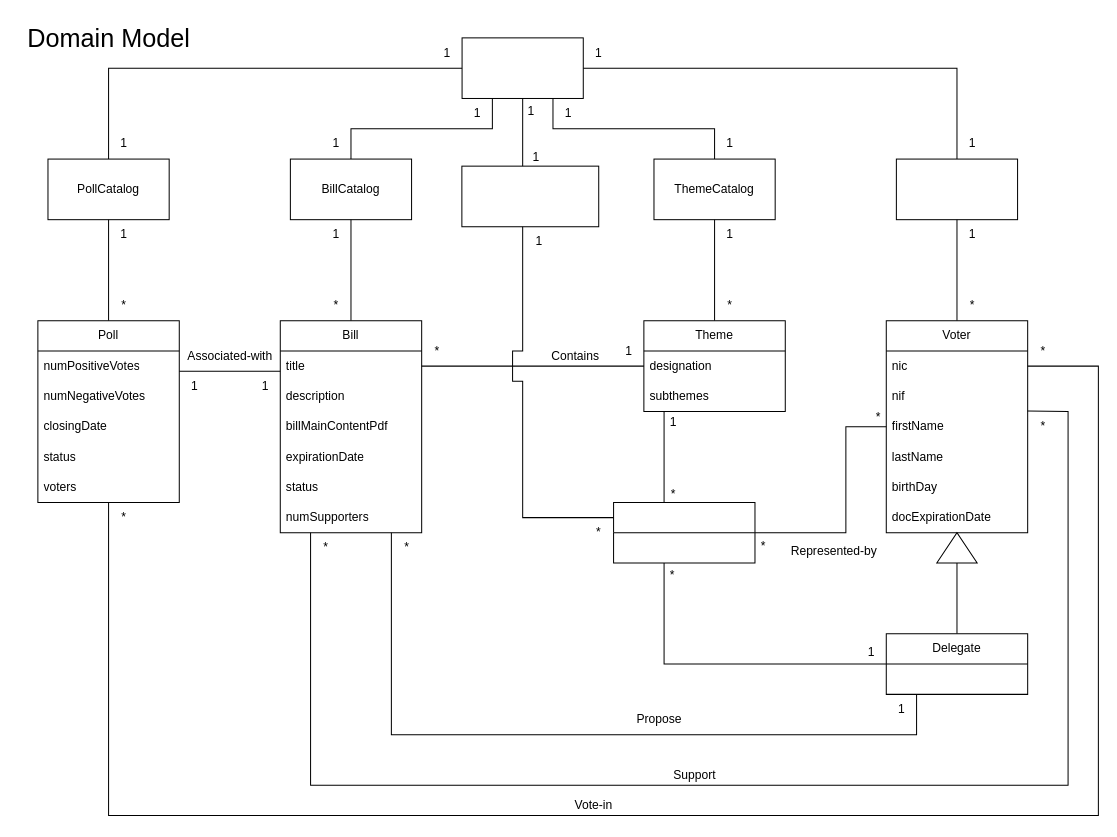
The diagram is 1117 pixels wide and 837 high, and some of its shapes have lost their labels. Each missing label, with the centre of its shape:
"CitizenCatalog" belongs at (956,189).
"DelegateTheme" belongs at (684,532).
"DelegateThemeCatalog" belongs at (530,196).
"Democracia2.0" belongs at (522,67).
